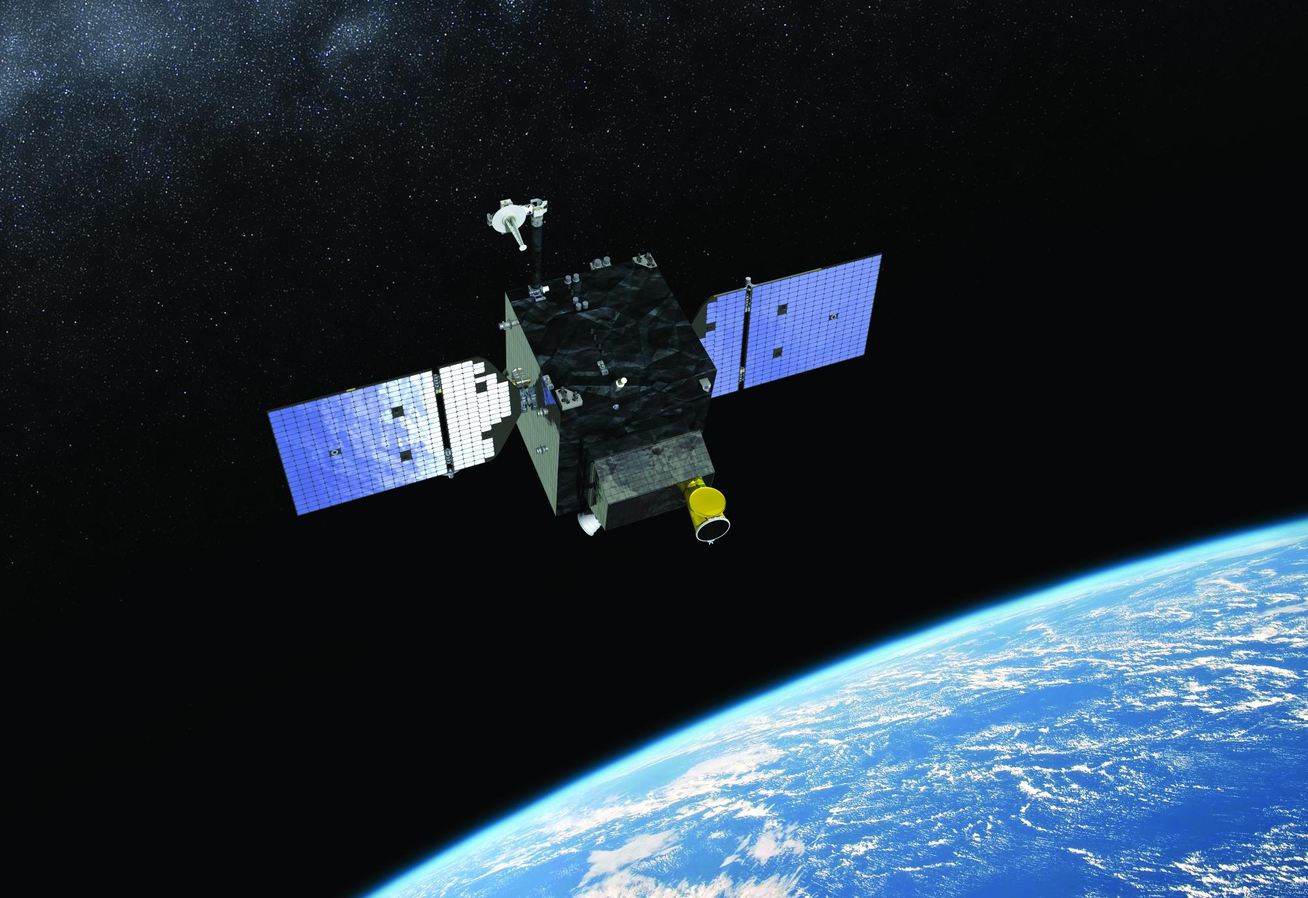antenna: (488, 199, 531, 253)
body: (499, 246, 717, 514)
solar: (265, 352, 525, 520), (692, 250, 886, 401)
thruster: (677, 473, 733, 542), (576, 510, 602, 537), (572, 396, 577, 401), (561, 398, 566, 403), (565, 399, 570, 404), (562, 390, 568, 394), (646, 262, 651, 266), (651, 263, 656, 267), (558, 389, 562, 394)
